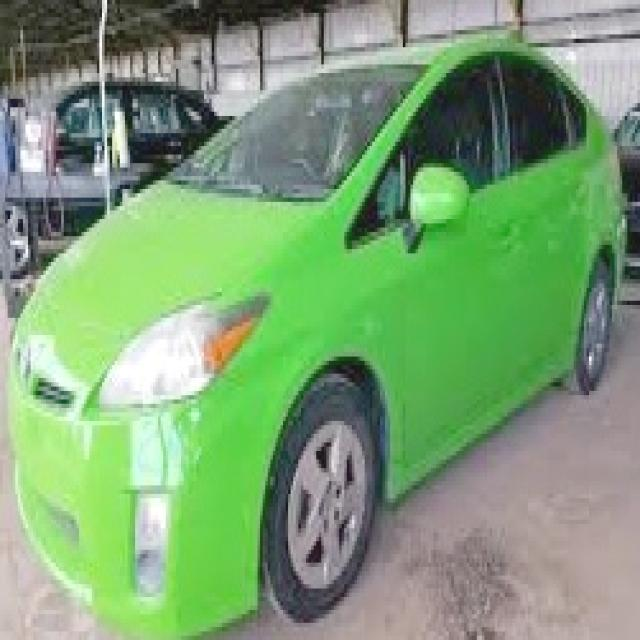green: (9, 38, 623, 640)
